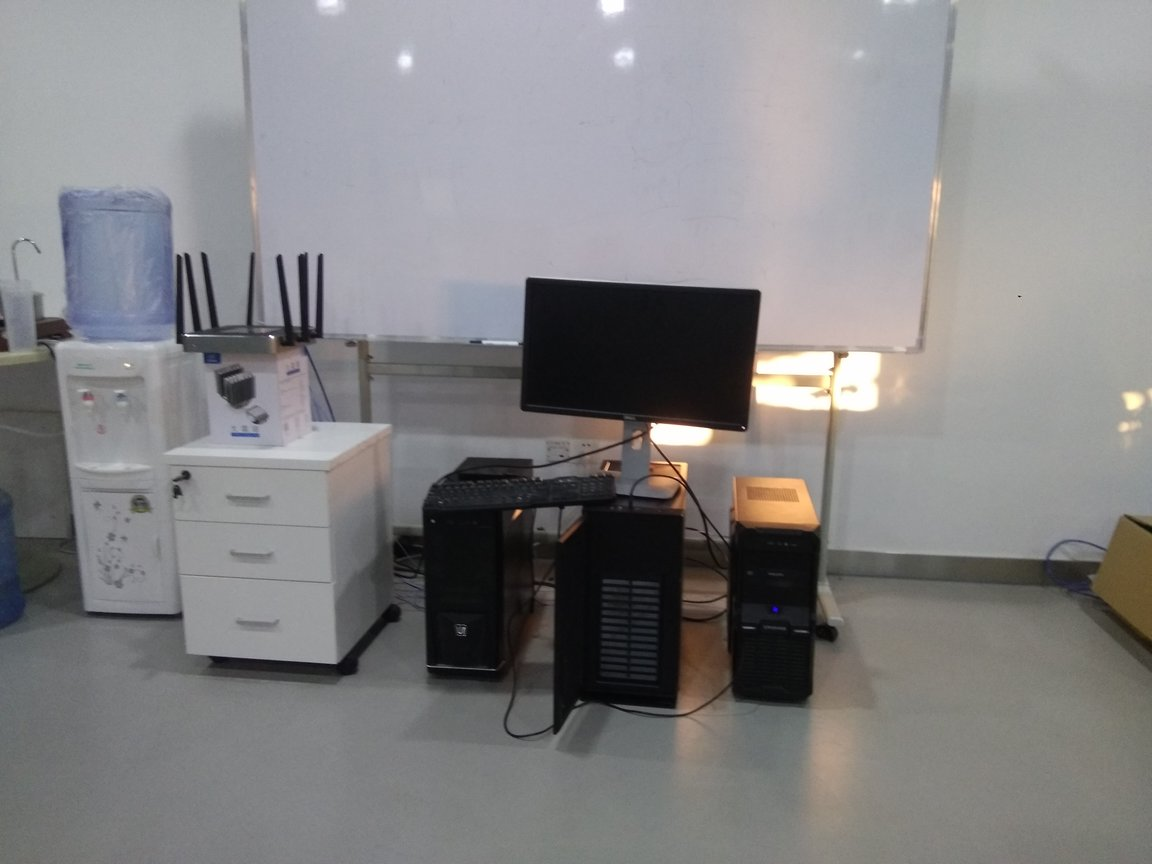computer: (556, 459, 688, 743), (426, 451, 540, 705), (725, 473, 817, 713)
drawer chest: (163, 416, 392, 695)
monitor: (520, 271, 756, 509)
scuttlebutt: (53, 183, 185, 345), (1, 495, 34, 636)
water dispenser: (49, 334, 202, 628)
